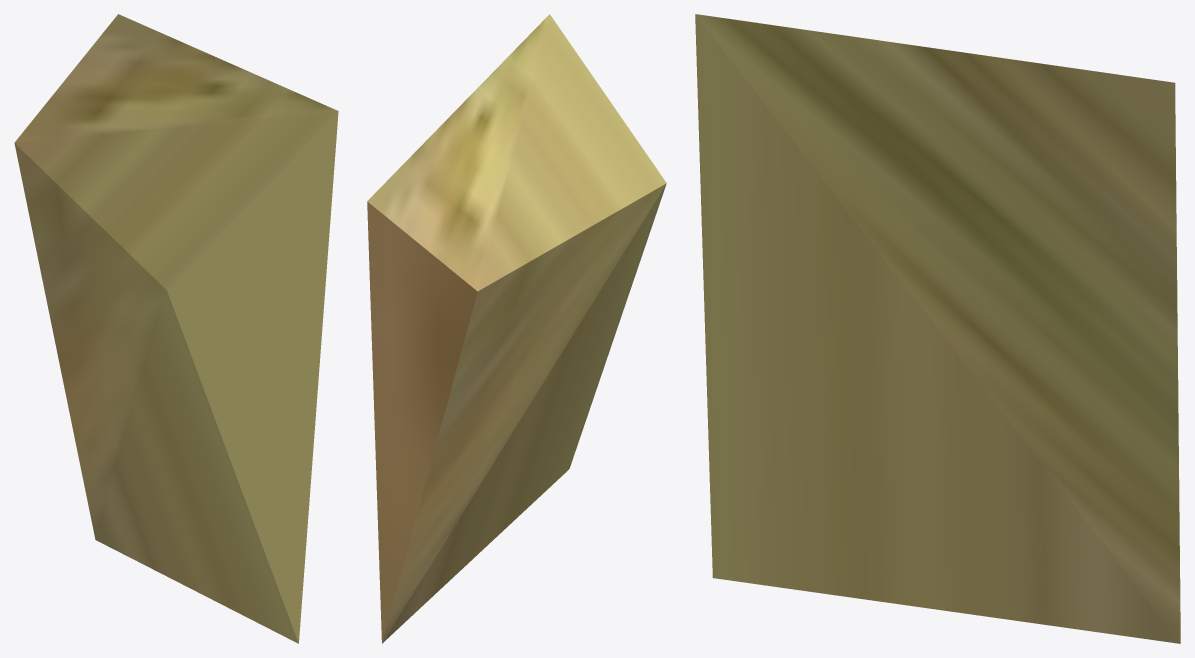
3 views of the same model, side by side, from view 1: azimuth 30°, elevation 25°; view 2: azimuth 150°, elevation 25°; view 3: azimuth 270°, elevation 25° (orthographic). The views are drawn at different scales.
Bounding box in the file's own units: 0.0368 × 0.1321 × 0.0907.
1 material, 1 textured.
